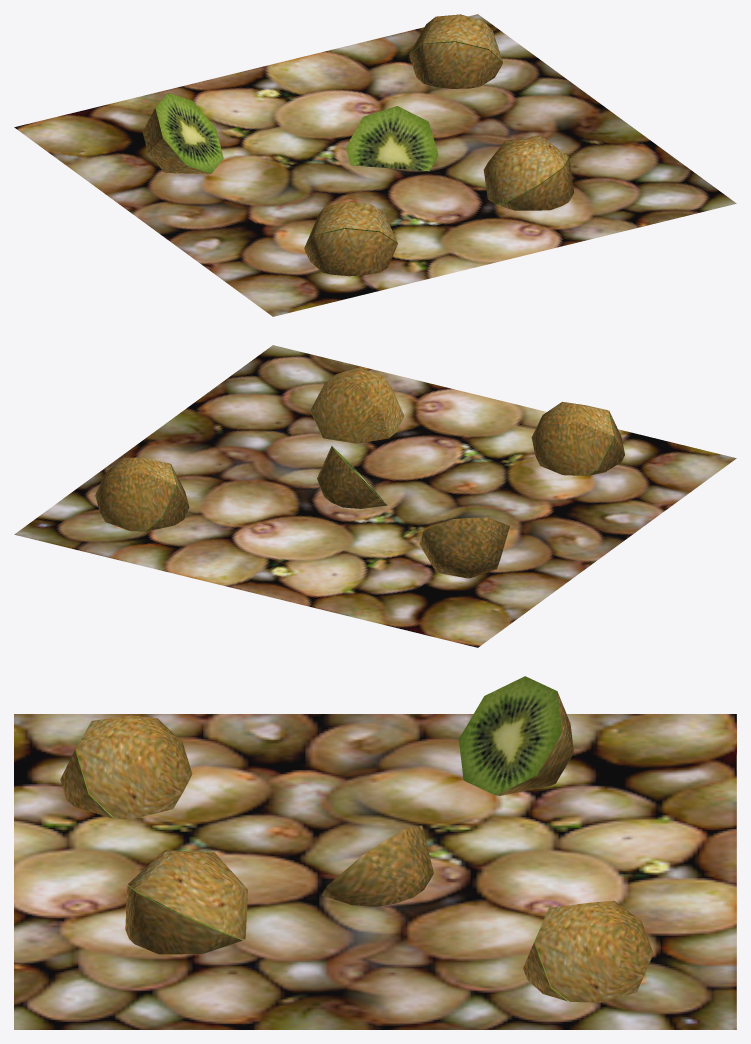
File: kiwi.FBX
The picture shows the model from 3 angles, top to bottom: view 1: azimuth 30°, elevation 25°; view 2: azimuth 150°, elevation 25°; view 3: azimuth 270°, elevation 25°; orthographic projection. The views are drawn at different scales.
Parts seen in each view (by area): view 1: kiwi; view 2: kiwi; view 3: kiwi.
Part boxes in pixels (box(x1,y1,x2,y2)): kiwi: box(14, 14, 736, 316); kiwi: box(14, 345, 736, 647); kiwi: box(14, 676, 736, 1029).
Size of the model in its own units: 195 by 189 by 36.31.
